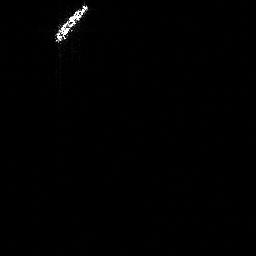ship: (50, 1, 90, 47)
